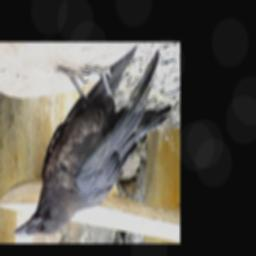Crow: (13, 47, 173, 238)
